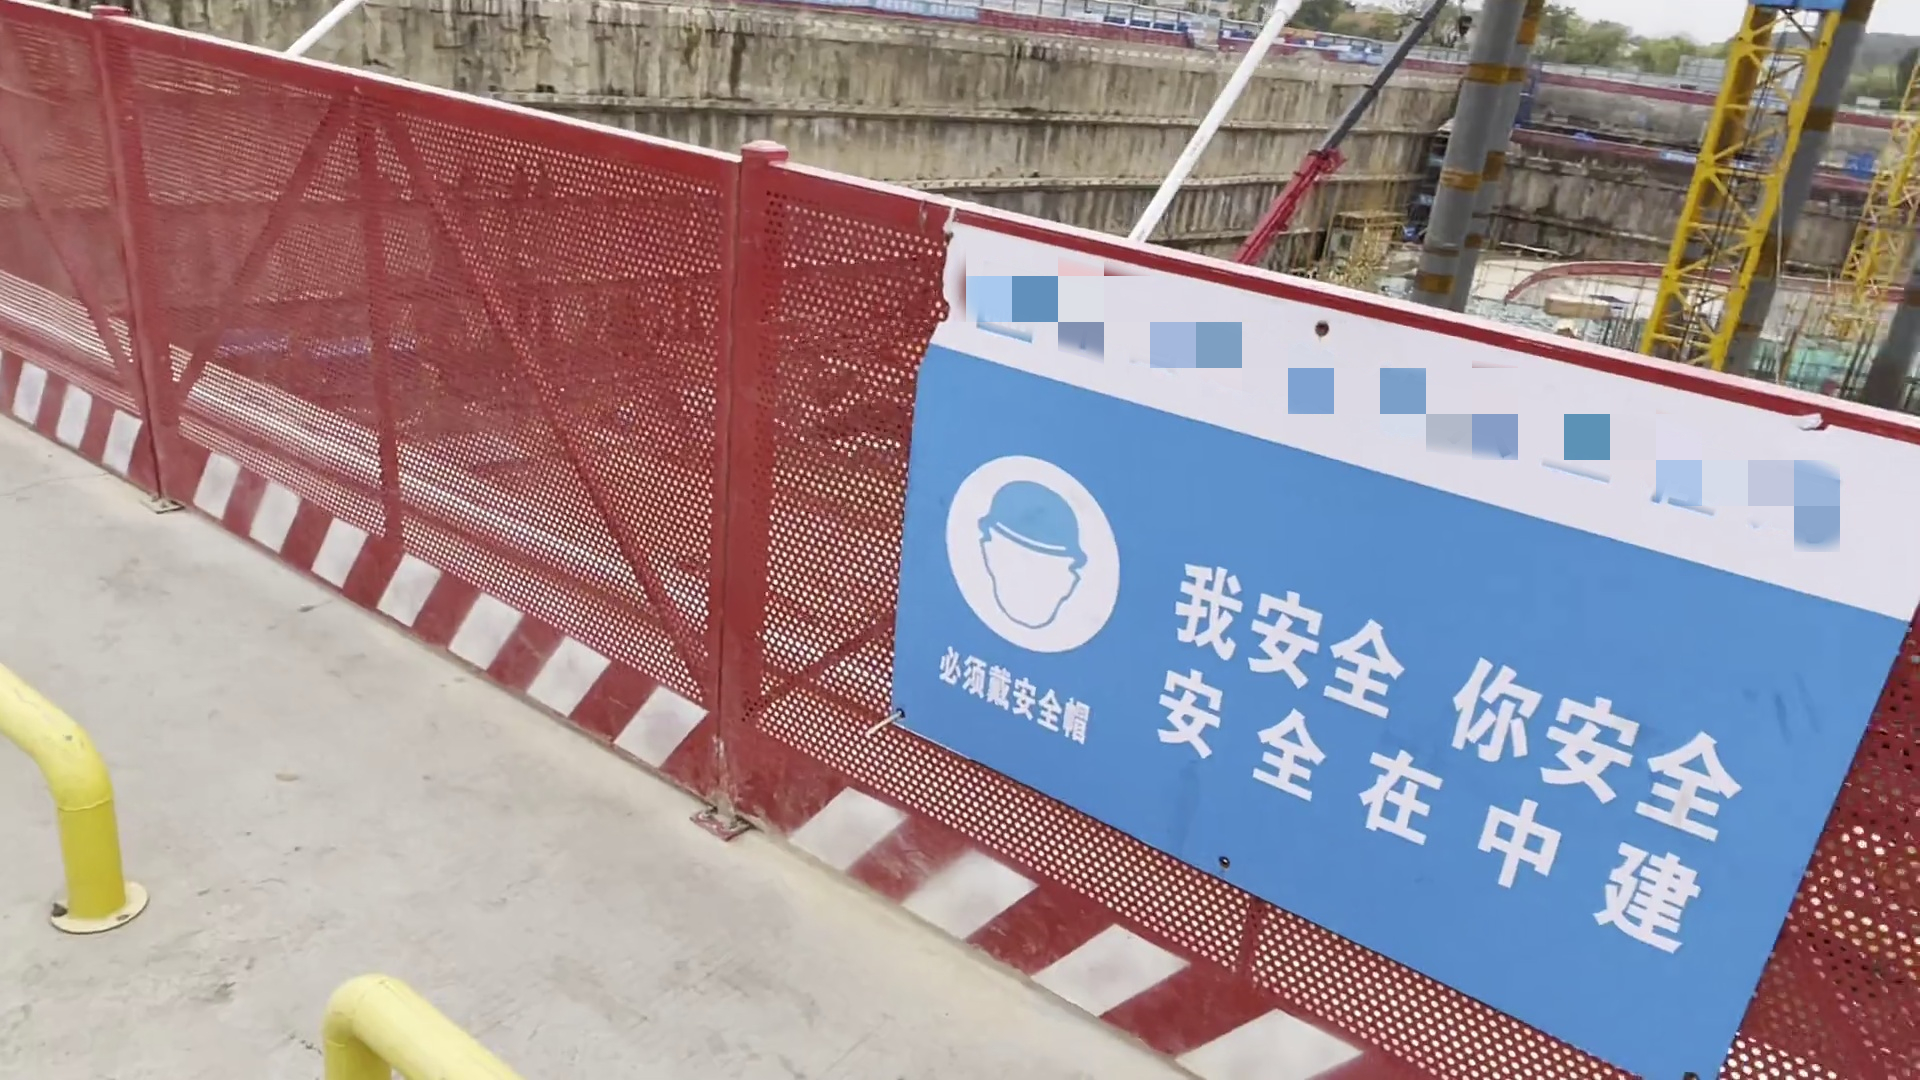fence: (727, 146, 1905, 1080), (3, 7, 719, 818)
hook: (1458, 12, 1469, 37)
slogan: (887, 212, 1920, 1068), (833, 1, 978, 18)
wood: (1542, 298, 1610, 324)
